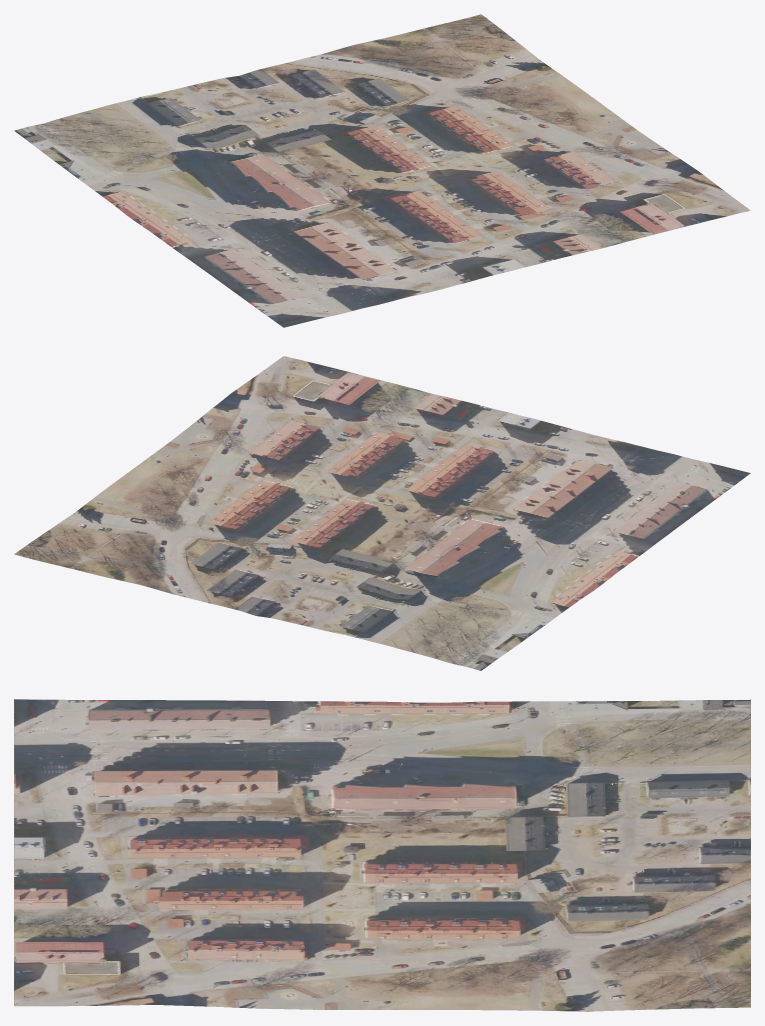
Rendered from CM_Terrain_24488615_6821432.fbx.
The picture shows the model from 3 angles, top to bottom: view 1: azimuth 30°, elevation 25°; view 2: azimuth 150°, elevation 25°; view 3: azimuth 270°, elevation 25°; orthographic projection. The views are drawn at different scales.
Parts seen in each view (by area): view 1: CM_Terrain_24488615_6821432_LOD0; view 2: CM_Terrain_24488615_6821432_LOD0; view 3: CM_Terrain_24488615_6821432_LOD0.
Part boxes in pixels (x1,y1,x2,y2): CM_Terrain_24488615_6821432_LOD0: [14, 14, 750, 327]; CM_Terrain_24488615_6821432_LOD0: [14, 356, 750, 670]; CM_Terrain_24488615_6821432_LOD0: [14, 699, 750, 1011].
Size of what is drawn, in the model's own units: 205 by 2.86 by 205.
